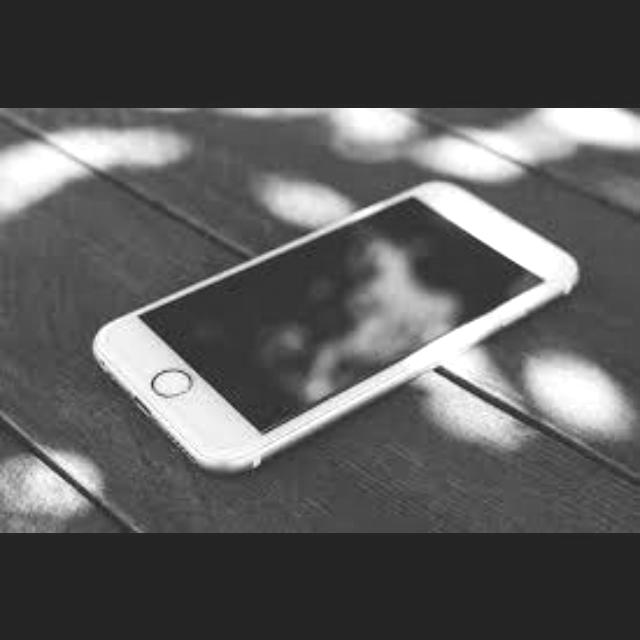fake: (91, 132, 593, 496)
